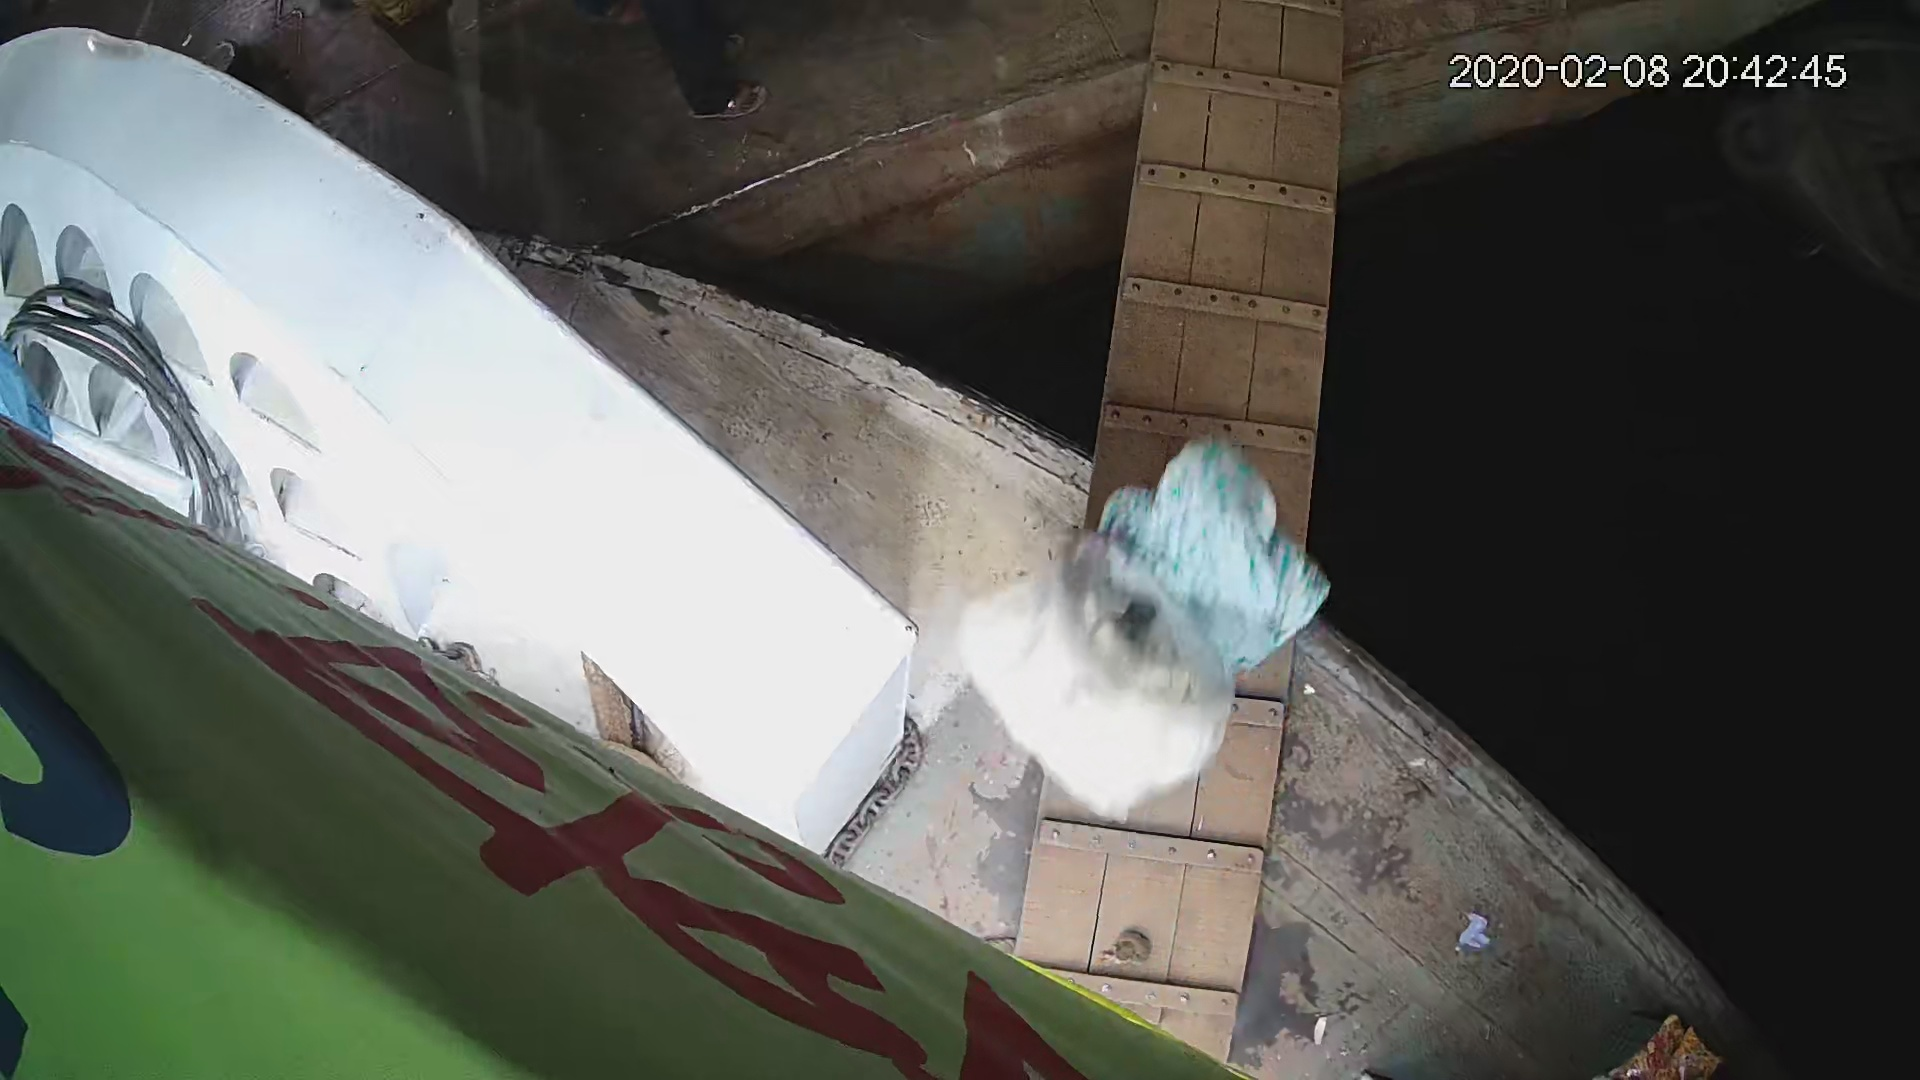person: (1065, 420, 1335, 697)
